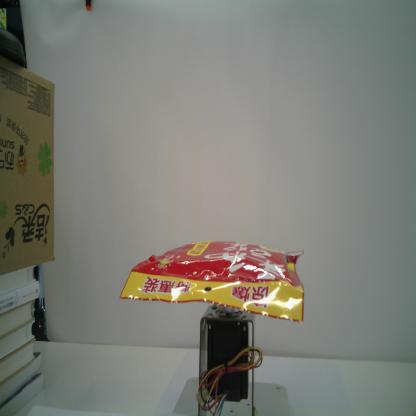Instant Drink: (119, 240, 305, 324)
